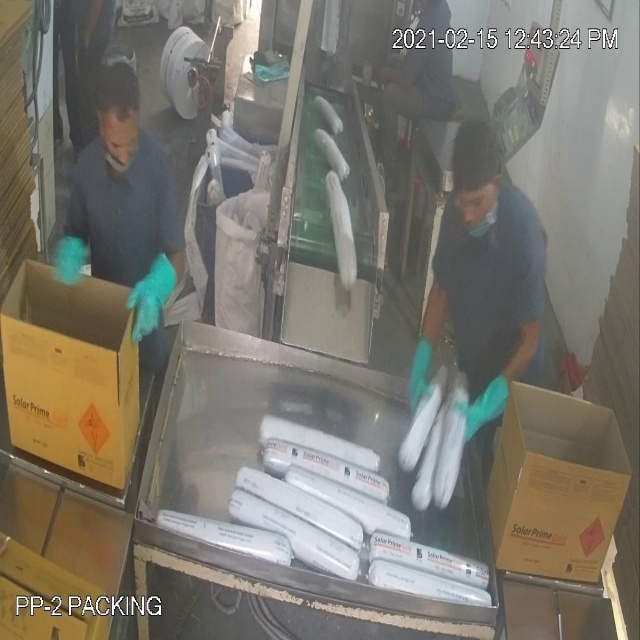Guantes: (122, 236, 185, 359), (400, 328, 441, 420), (454, 382, 511, 446)
Sin_guantes: (365, 52, 417, 104), (76, 1, 102, 64)
